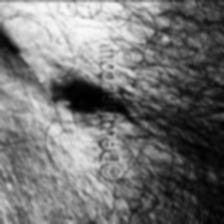Potentially Malignant Skin Tumors: (53, 74, 131, 120)
